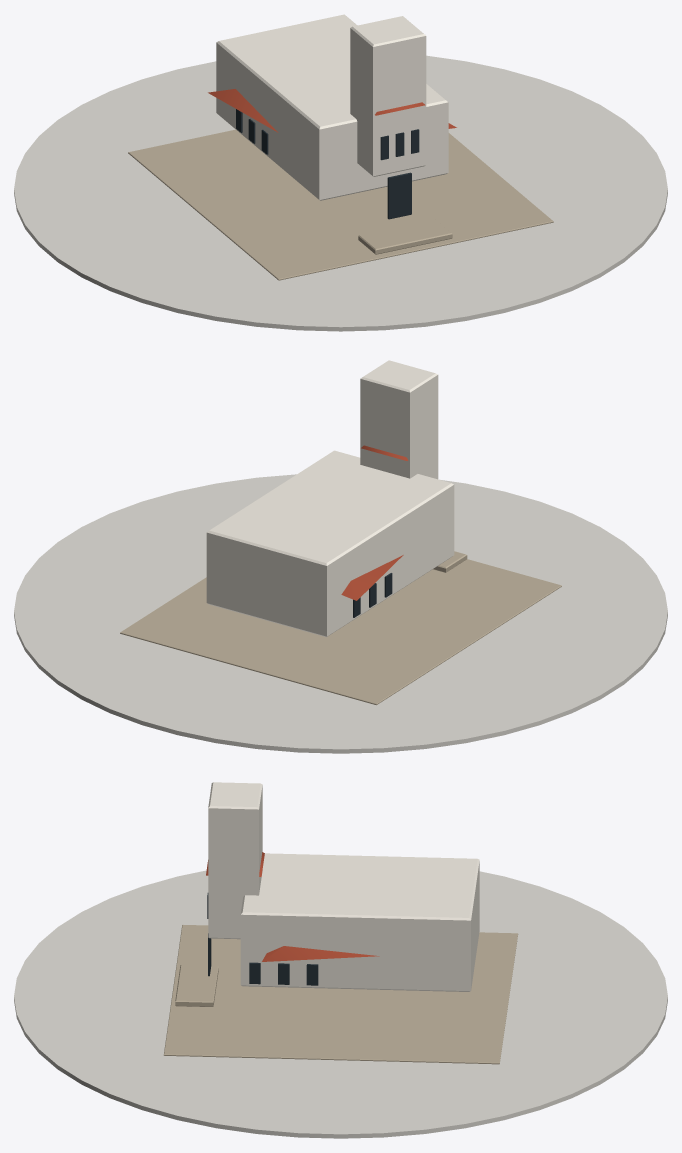
File: igreja-de-fatima.glb
The picture shows the model from 3 angles, top to bottom: view 1: azimuth 30°, elevation 25°; view 2: azimuth 150°, elevation 25°; view 3: azimuth 270°, elevation 25°; orthographic projection.
Visible parts, largest first — view 1: Base_Pedestal, Adro, Nave_Central, Torre_Sineira, Escadaria, Porta_Principal, Nave_Telhado; view 2: Base_Pedestal, Nave_Central, Adro, Torre_Sineira, Nave_Telhado; view 3: Base_Pedestal, Nave_Central, Adro, Torre_Sineira, Escadaria, Nave_Telhado.
Boxes of the visible parts, x1,y1,x2,y2 form: Base_Pedestal: [14, 55, 667, 331]; Adro: [128, 129, 553, 280]; Nave_Central: [216, 14, 448, 200]; Torre_Sineira: [350, 16, 426, 176]; Escadaria: [358, 219, 452, 254]; Porta_Principal: [387, 172, 411, 219]; Nave_Telhado: [208, 89, 456, 132]; Base_Pedestal: [14, 474, 667, 753]; Nave_Central: [206, 450, 454, 637]; Adro: [120, 559, 561, 705]; Torre_Sineira: [360, 360, 438, 479]; Nave_Telhado: [341, 555, 403, 600]; Base_Pedestal: [14, 870, 667, 1138]; Nave_Central: [240, 853, 479, 991]; Adro: [163, 925, 518, 1064]; Torre_Sineira: [208, 782, 262, 939]; Escadaria: [175, 965, 218, 1006]; Nave_Telhado: [262, 946, 379, 961].
Bounding box in the file's own units: 68 × 23.3 × 68.
